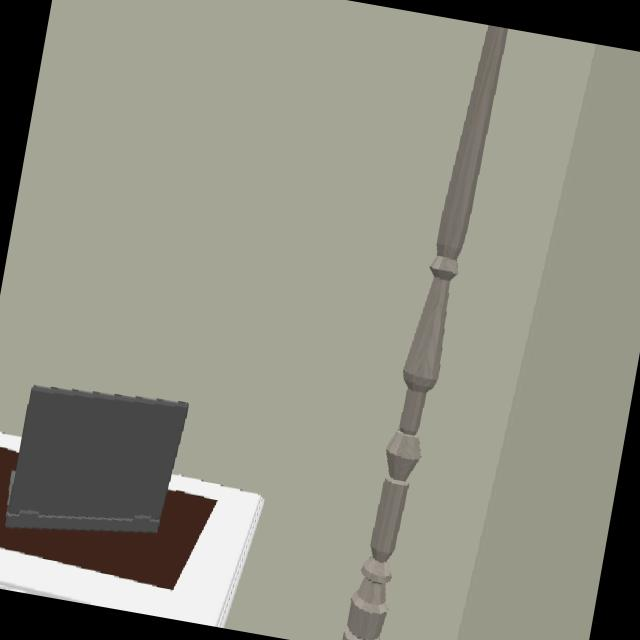laptop: (5, 386, 190, 536)
table: (0, 438, 265, 627)
